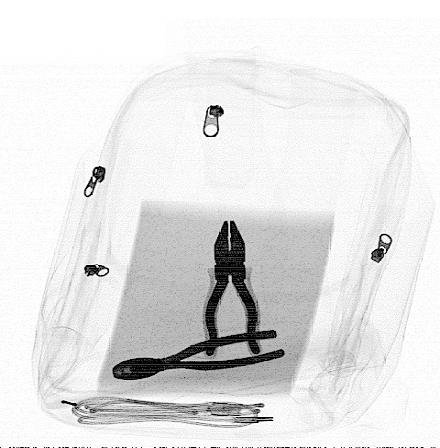Pliers: (110, 328, 288, 382), (201, 219, 263, 361)
